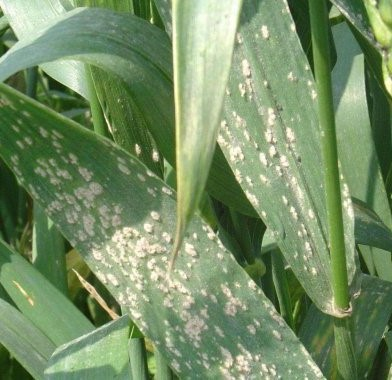Powdery Mildew: (58, 174, 268, 370)
